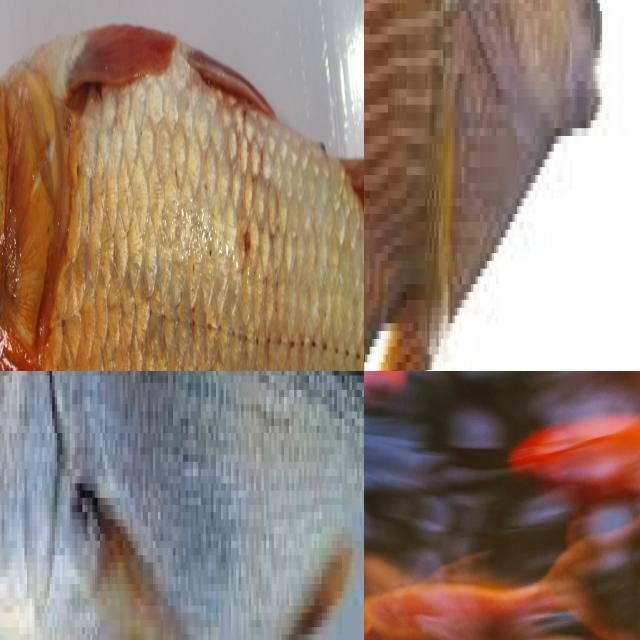fish: (0, 0, 364, 371), (0, 371, 364, 640), (364, 0, 581, 371), (436, 371, 605, 640)
